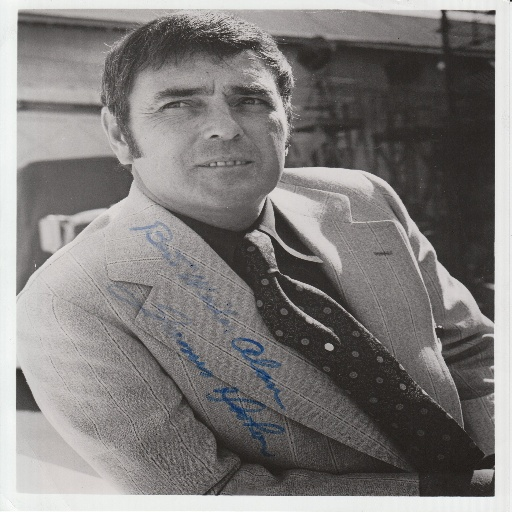hand: (448, 469, 496, 497)
